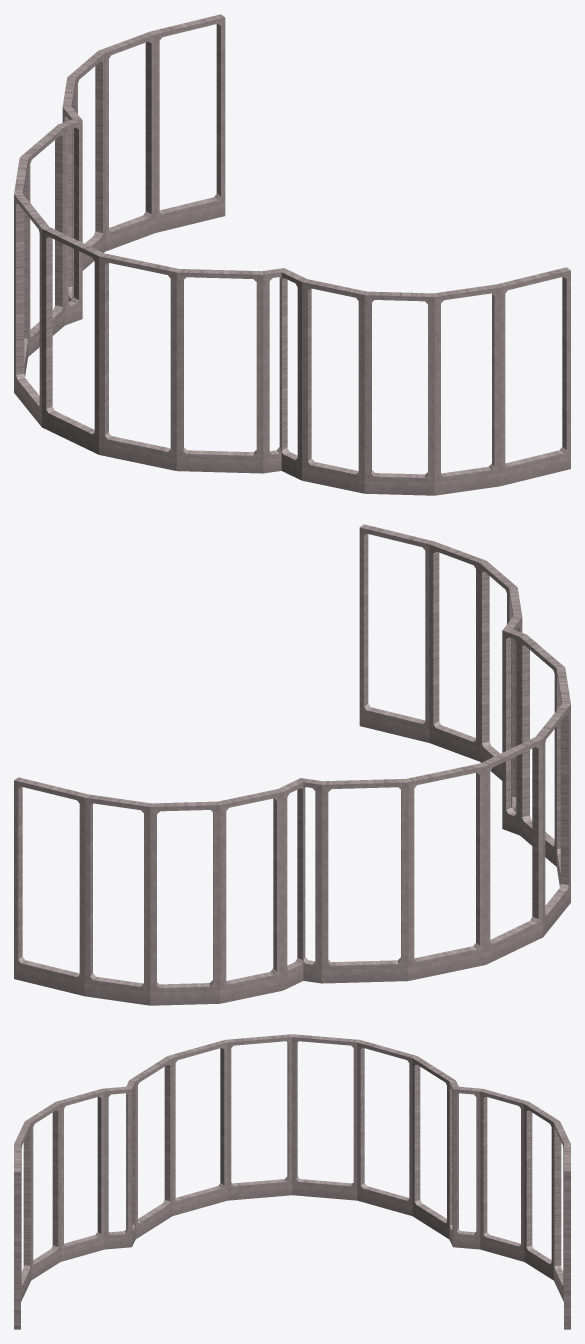
The model's file is ShutterEnclosure.fbx.
The picture shows the model from 3 angles, top to bottom: view 1: azimuth 30°, elevation 25°; view 2: azimuth 150°, elevation 25°; view 3: azimuth 270°, elevation 25°; orthographic projection. The views are drawn at different scales.
Parts seen in each view (by area): view 1: Shutter; view 2: Shutter; view 3: Shutter.
Part boxes in pixels (box(x1,y1,x2,y2)): Shutter: box(14, 14, 570, 495); Shutter: box(14, 524, 570, 1005); Shutter: box(14, 1034, 570, 1329).
Size of what is drawn, in the model's own units: 10910 by 5848 by 18674.
